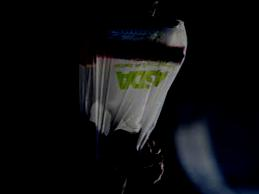Plastic: (74, 8, 189, 155)
